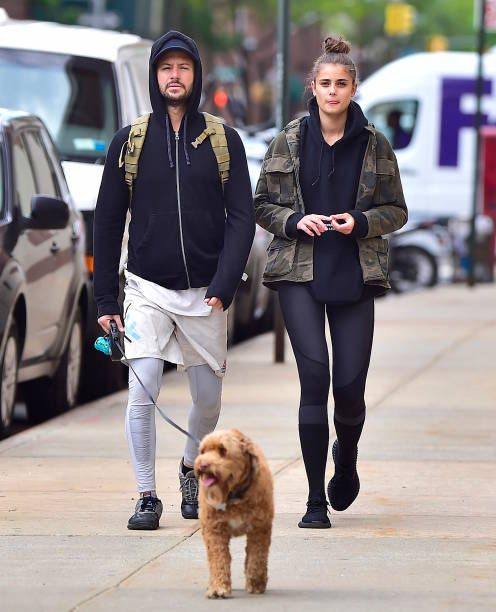Person: (92, 28, 256, 532), (253, 35, 410, 531)
